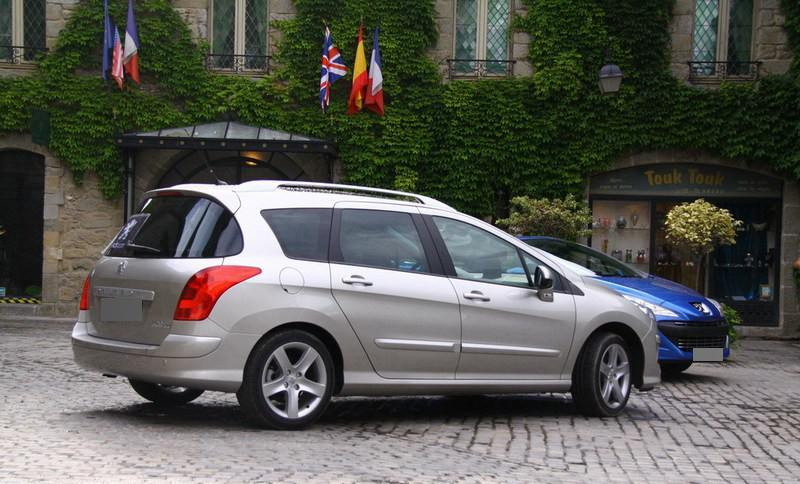Wagon: (71, 178, 662, 432)
